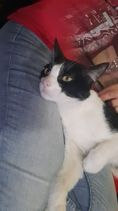cat: (37, 31, 116, 208)
